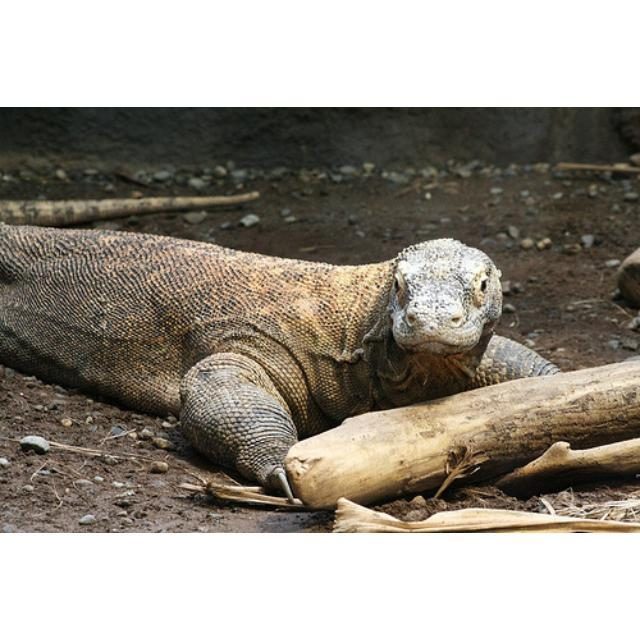KomodoDragon: (3, 190, 558, 530)
